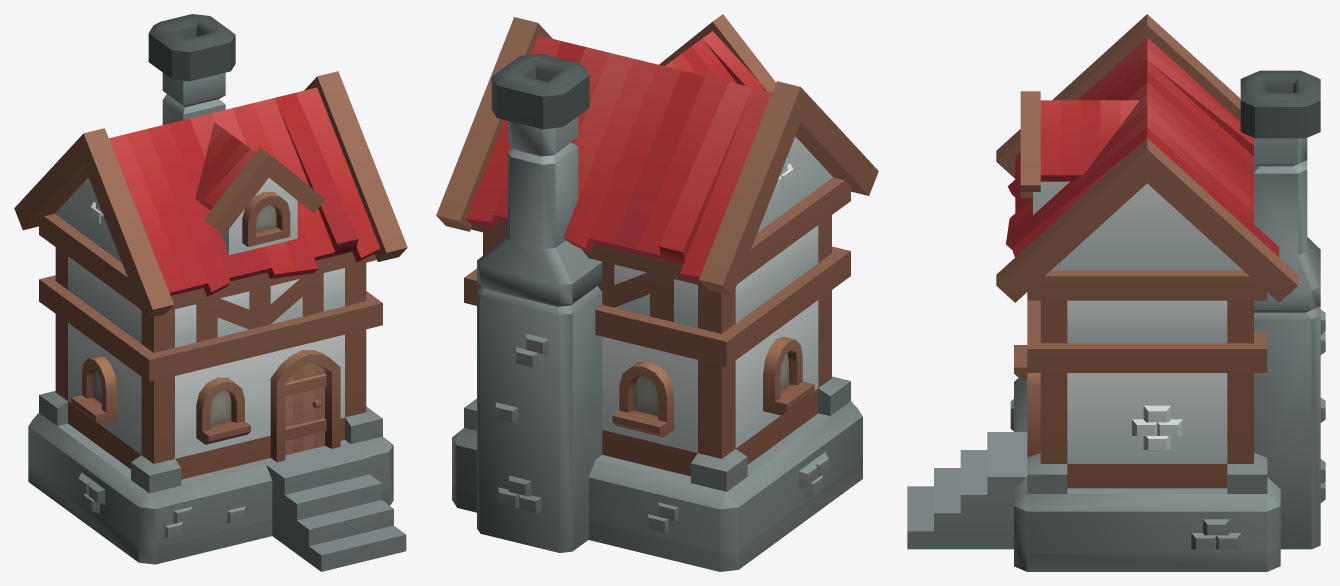
Rendered from building_home_B-Bm339G2J.glb.
3 renders of one model, left to right at view 1: azimuth 30°, elevation 25°; view 2: azimuth 150°, elevation 25°; view 3: azimuth 270°, elevation 25°, orthographic. The views are drawn at different scales.
Parts seen in each view (by area): view 1: building_home_B_red; view 2: building_home_B_red; view 3: building_home_B_red.
Boxes of the visible parts, left/top/right/bottom form: building_home_B_red: left=14, top=14, right=407, bottom=571; building_home_B_red: left=436, top=14, right=878, bottom=571; building_home_B_red: left=907, top=14, right=1325, bottom=571.
Bounding box in the file's own units: 4.81 × 7.04 × 6.04.
1 material, 1 textured.
